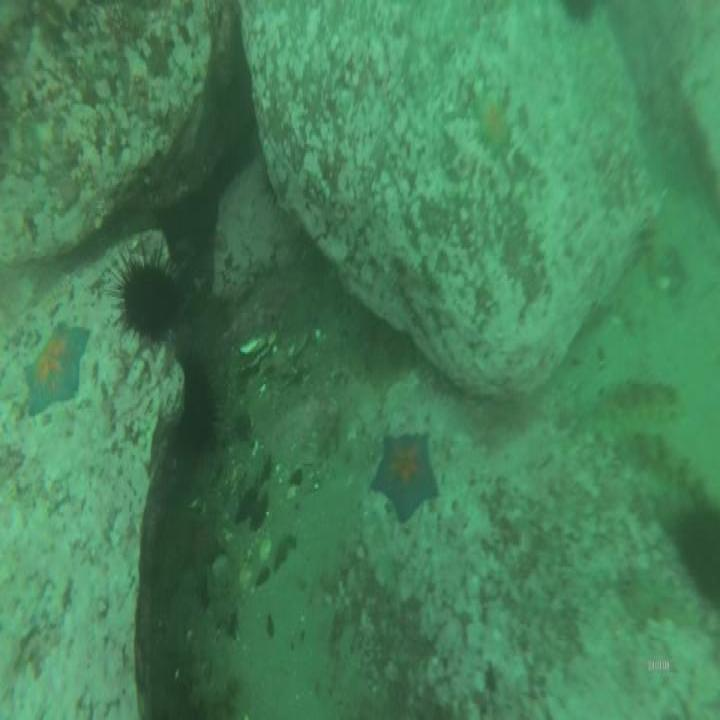echinus: (119, 258, 179, 338), (678, 512, 720, 606), (183, 370, 217, 455)
holothurian: (621, 428, 711, 498), (601, 379, 682, 425), (642, 210, 665, 277)
starfish: (23, 324, 91, 414), (373, 427, 438, 519), (474, 98, 509, 160)
